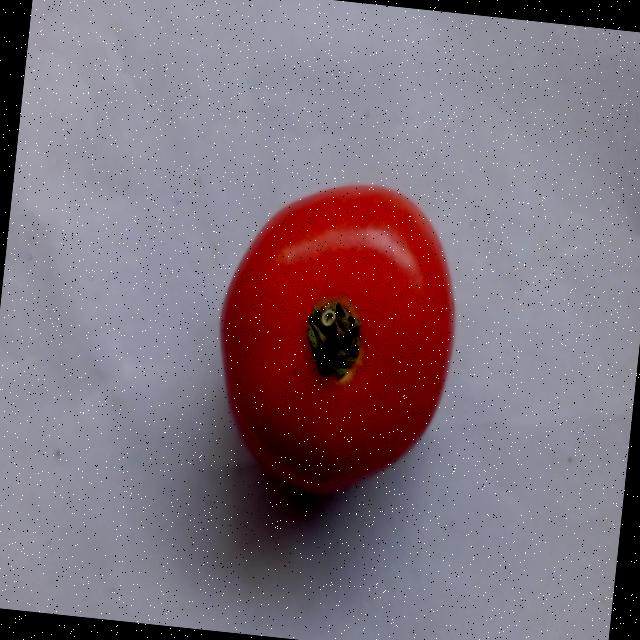Tomato: (199, 167, 472, 514)
